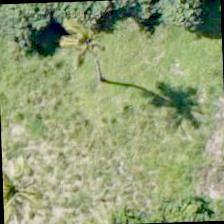Kelapa_Sawit: (48, 31, 142, 124)
